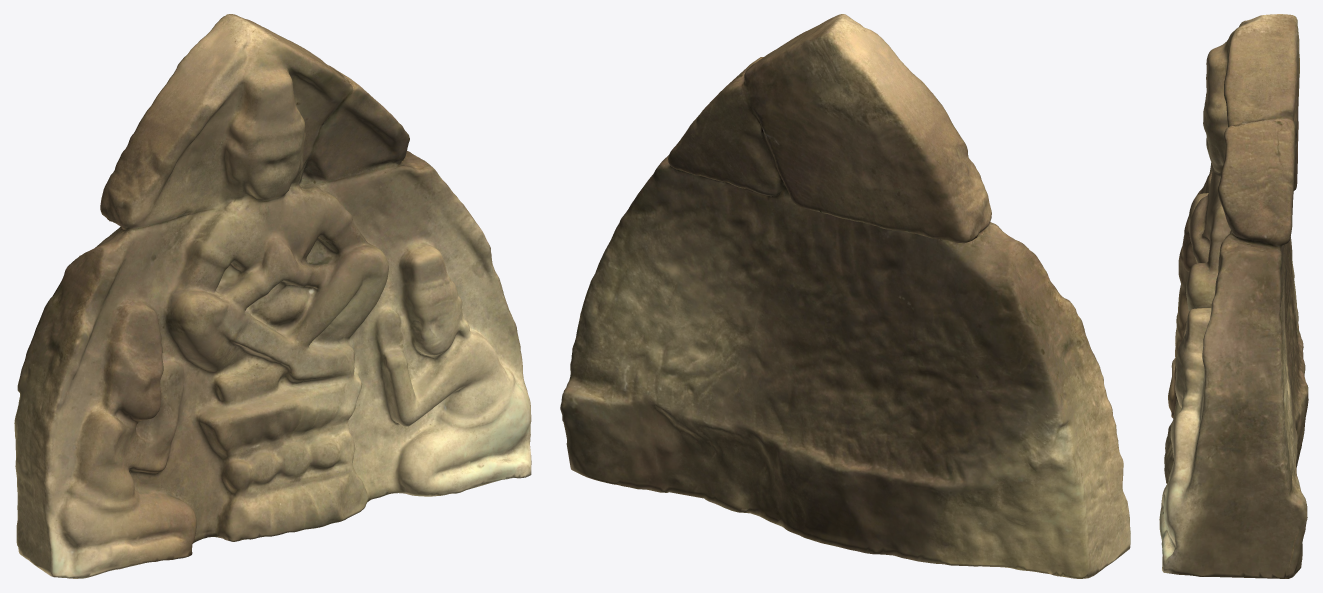
The model's file is MysonMuseum_warehousephudieu2_final.glb.
3 views of the same model, side by side, from view 1: azimuth 30°, elevation 25°; view 2: azimuth 150°, elevation 25°; view 3: azimuth 270°, elevation 25° (orthographic). The views are drawn at different scales.
Bounding box in the file's own units: 0.7033 × 0.679 × 0.1992.
Materials: 1 (1 with a texture image).
